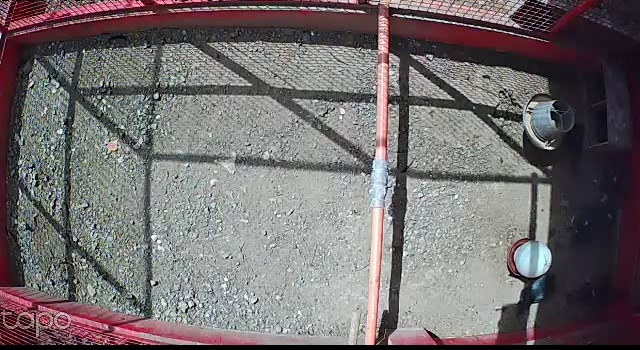Chicken: (514, 273, 557, 322)
Drinker: (506, 237, 554, 279)
Feeder: (523, 90, 577, 149)
